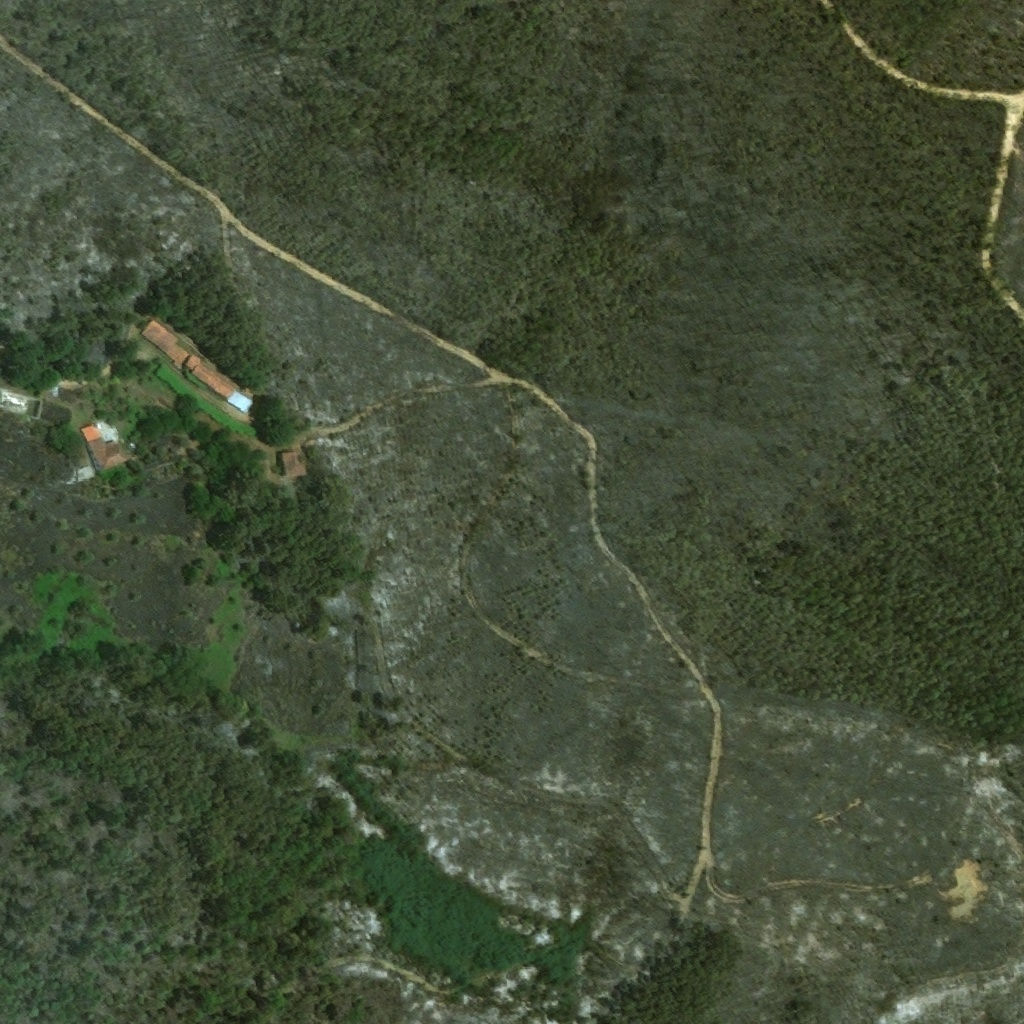0 no-damage: (184, 355, 256, 416), (139, 320, 194, 368), (81, 423, 130, 473), (279, 451, 308, 477), (77, 466, 95, 480)
3 destroyed: (35, 404, 54, 422)
